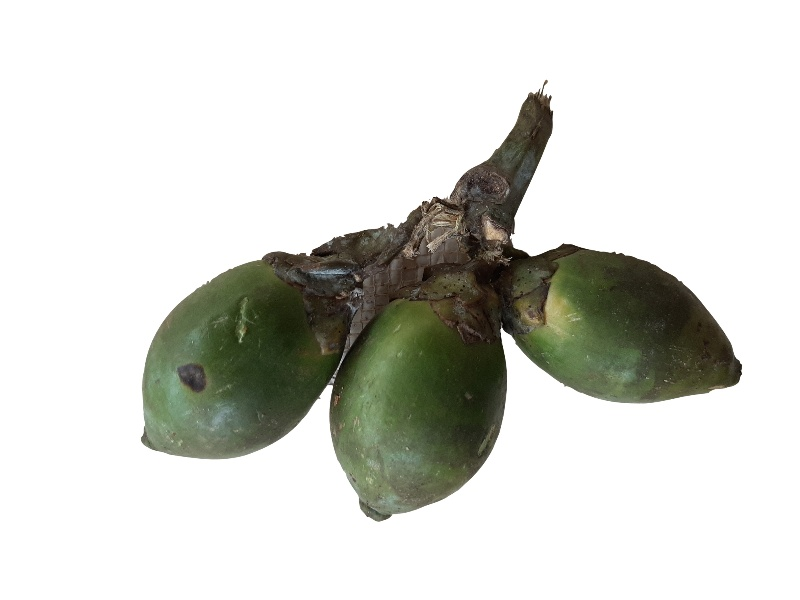arecanut: (330, 291, 508, 526), (137, 237, 317, 467), (520, 240, 749, 405)
